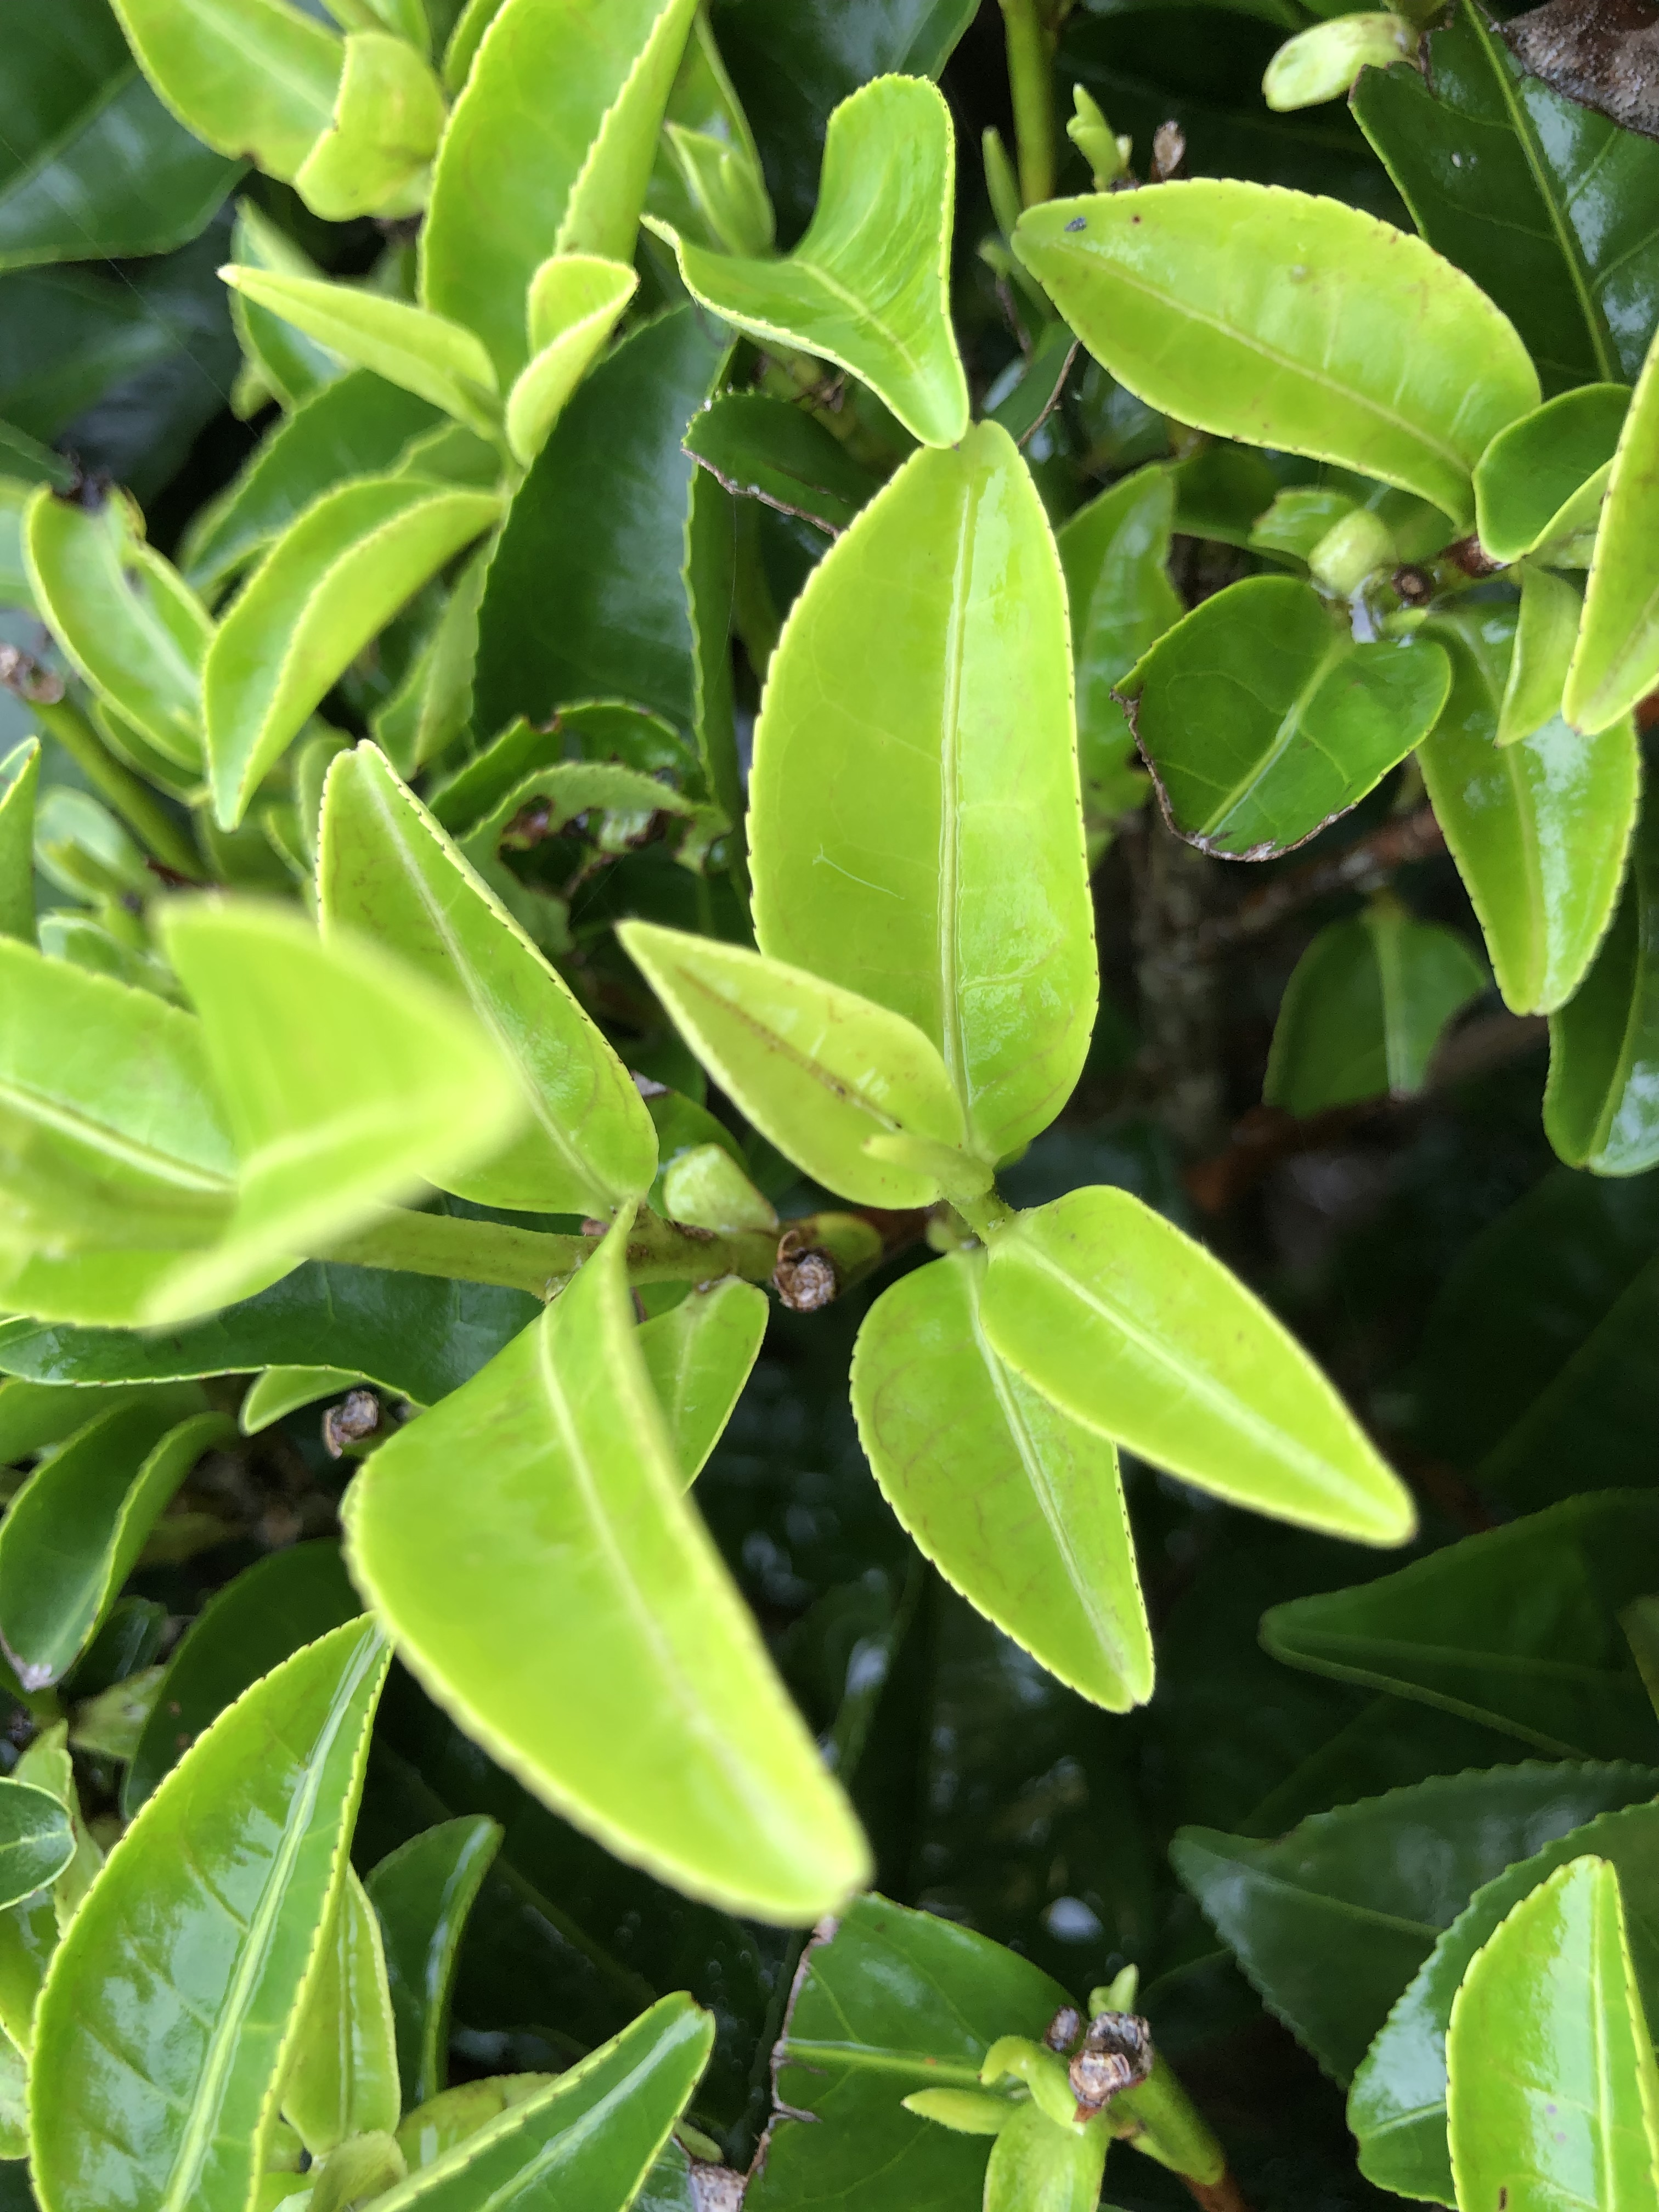formosa: (859, 1237, 1161, 1723), (620, 923, 965, 1198)
other: (775, 1211, 896, 1318)
